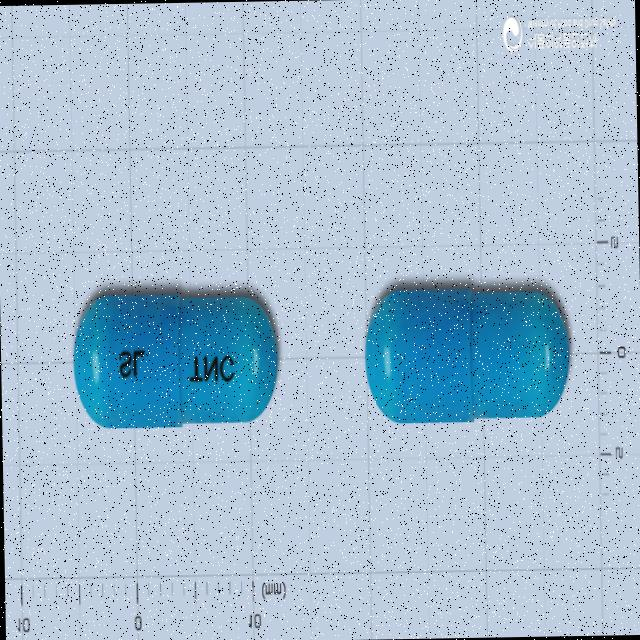Tricyline-N Cap: (73, 289, 280, 432), (364, 287, 571, 427)
